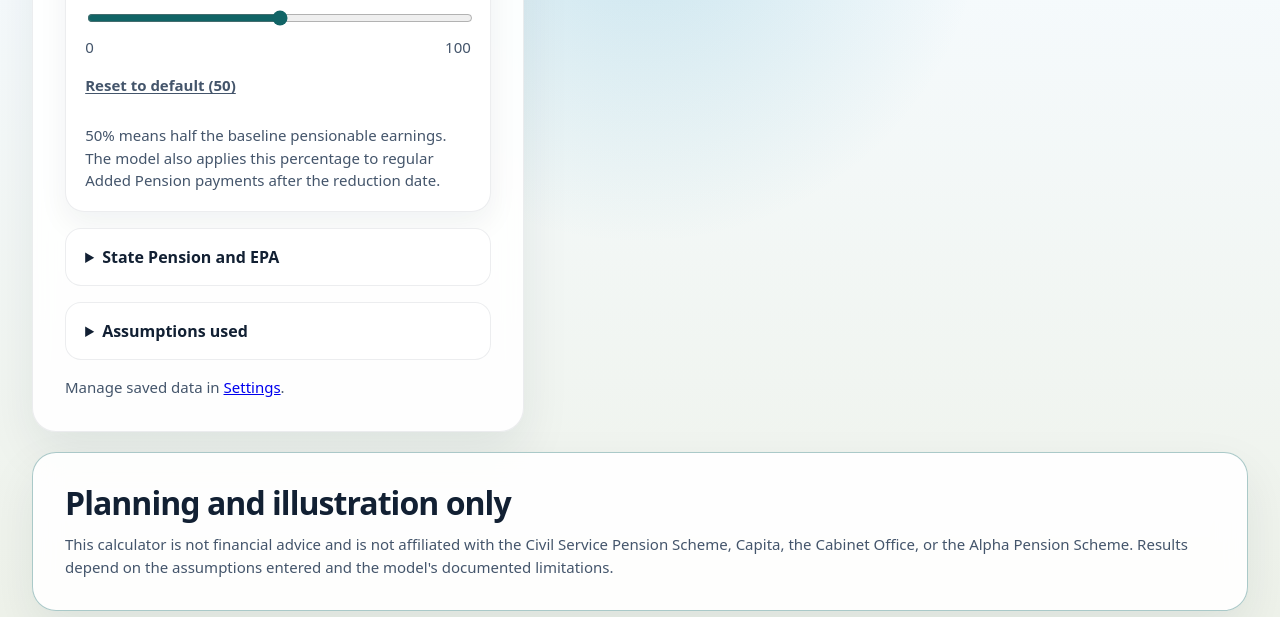
Test: Quick modeller journey › shows shared advanced controls in the State Pension and EPA disclosure
(page scrolled)
Click the heading "State Pension and EPA": (191, 257) x1=102 y1=246 x2=279 y2=268
(page scrolled)
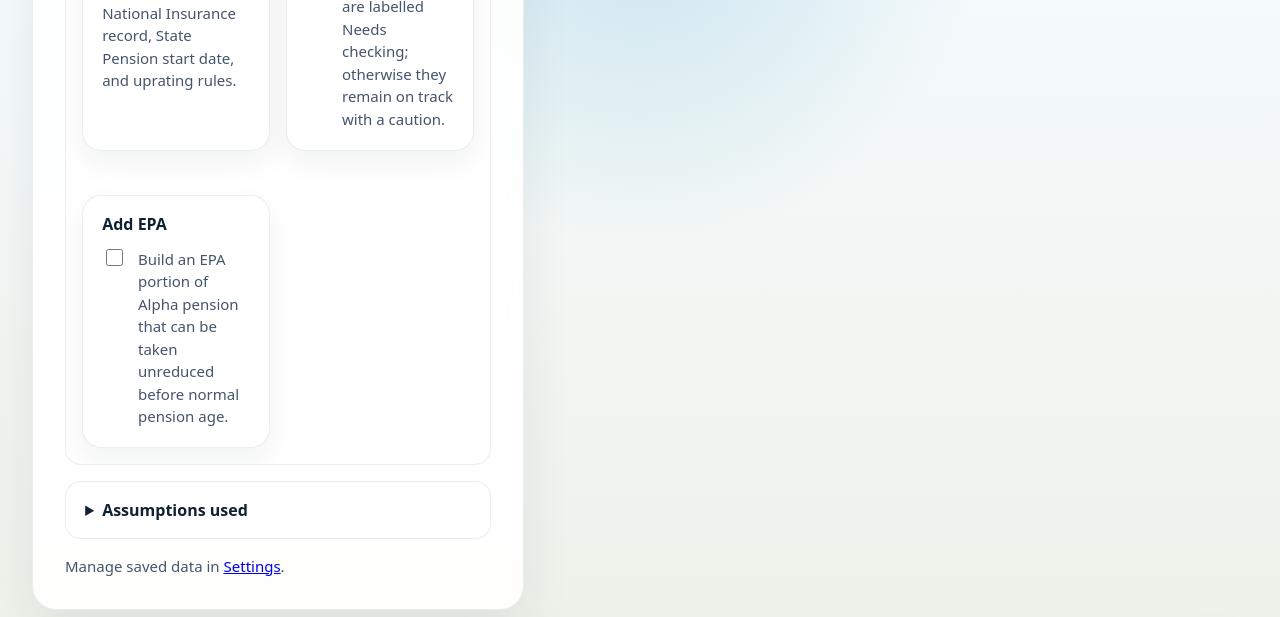
Expected: the checkbox labelled "Add EPA" is not checked, x1=106 y1=249 x2=123 y2=266
